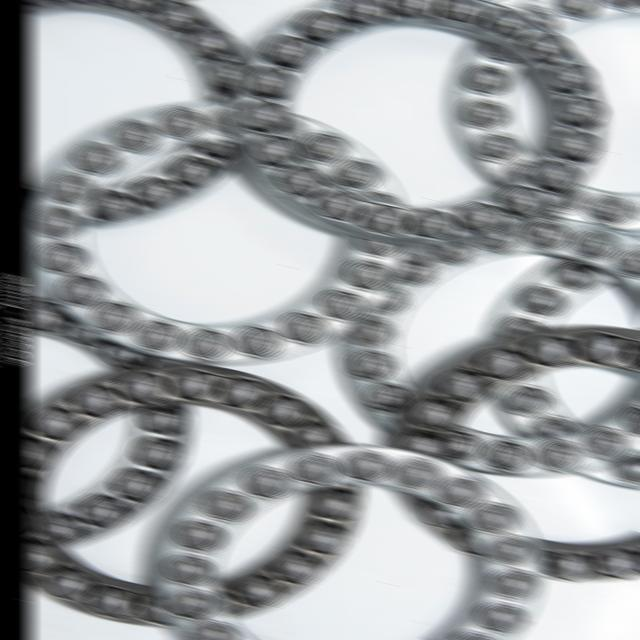Bearing: (29, 98, 414, 366), (227, 0, 610, 246), (26, 364, 368, 628), (330, 214, 640, 479), (152, 441, 545, 640), (389, 323, 640, 582), (28, 0, 250, 230), (448, 0, 640, 231), (23, 293, 194, 550), (483, 231, 640, 491)
